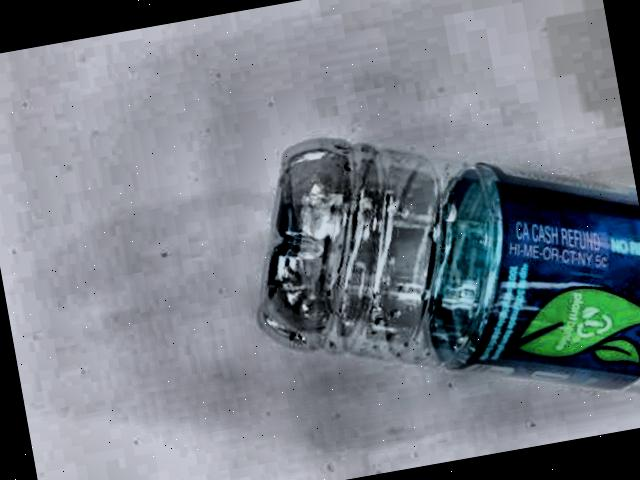Bottles: (205, 75, 640, 480)
